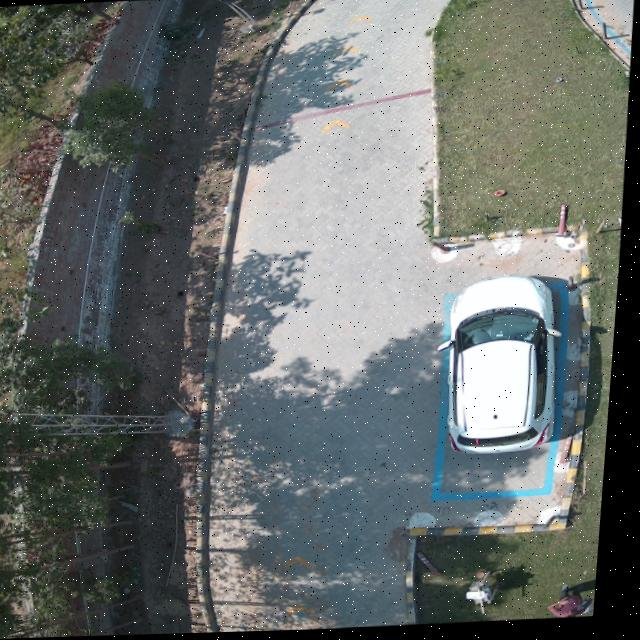car: (448, 277, 565, 456)
